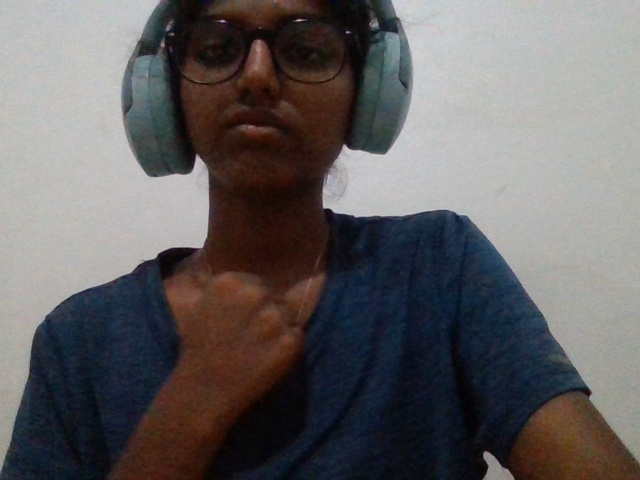Sorry: (148, 263, 324, 462)
